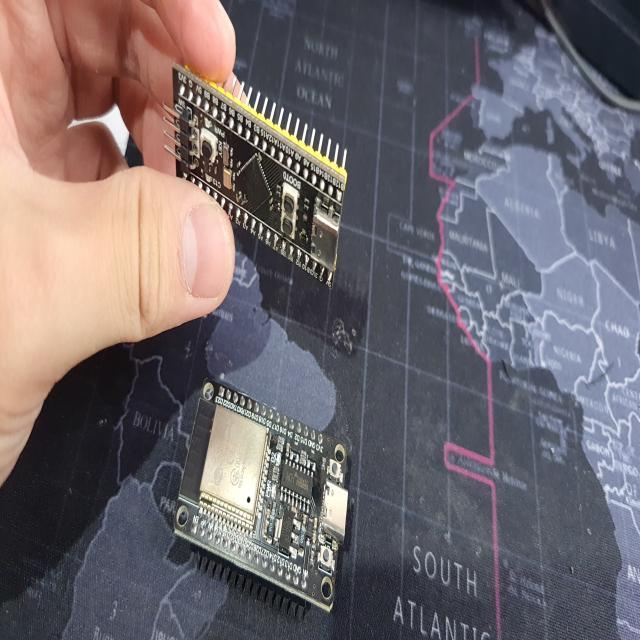ESP32: (176, 382, 349, 612)
STM32: (167, 69, 348, 287)
